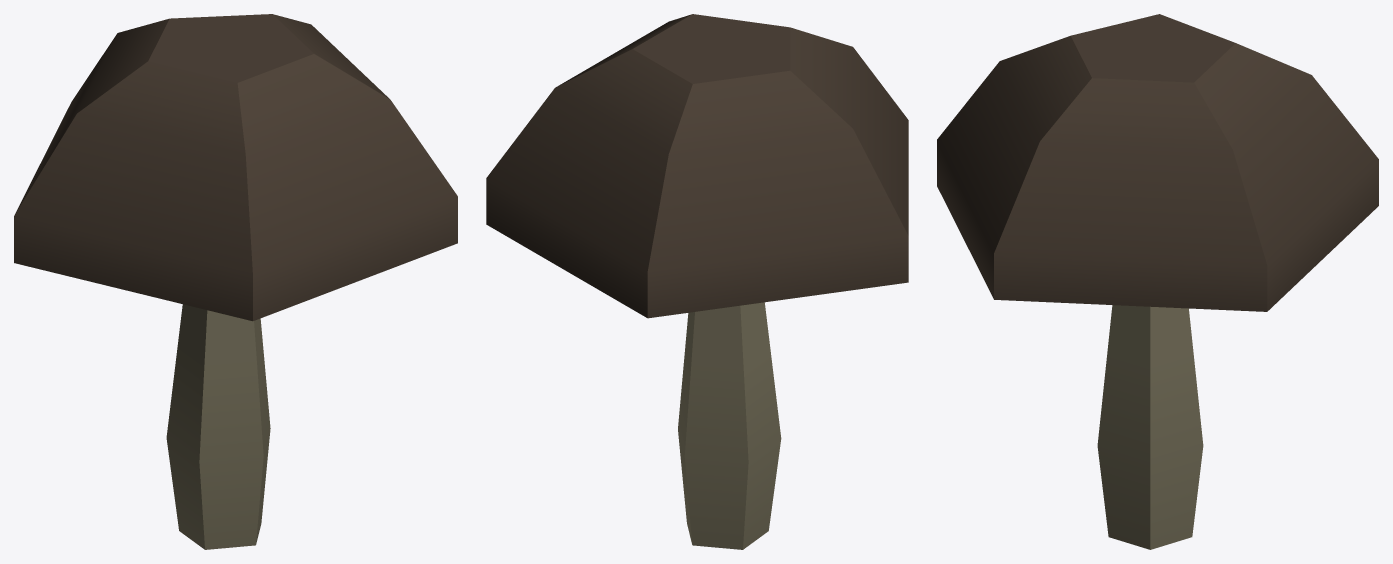
The model's file is SmallBrownMushroom.fbx.
3 renders of one model, left to right at view 1: azimuth 30°, elevation 25°; view 2: azimuth 150°, elevation 25°; view 3: azimuth 270°, elevation 25°, orthographic.
Parts seen in each view (by area): view 1: BrownMushroom2; view 2: BrownMushroom2; view 3: BrownMushroom2.
Boxes of the visible parts, bbox=[...] form: BrownMushroom2: bbox=[14, 14, 457, 549]; BrownMushroom2: bbox=[486, 14, 908, 549]; BrownMushroom2: bbox=[937, 14, 1378, 549].
Size of the model in its own units: 6.27 by 7.69 by 6.37.
